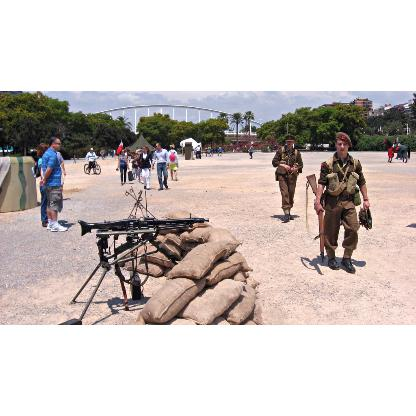gun: (306, 175, 322, 257)
